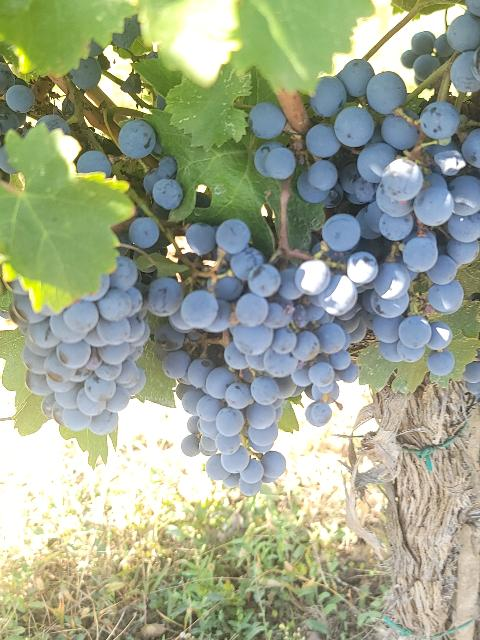grapes: (205, 220, 378, 425), (360, 71, 480, 290), (21, 256, 150, 435), (162, 350, 286, 496)
